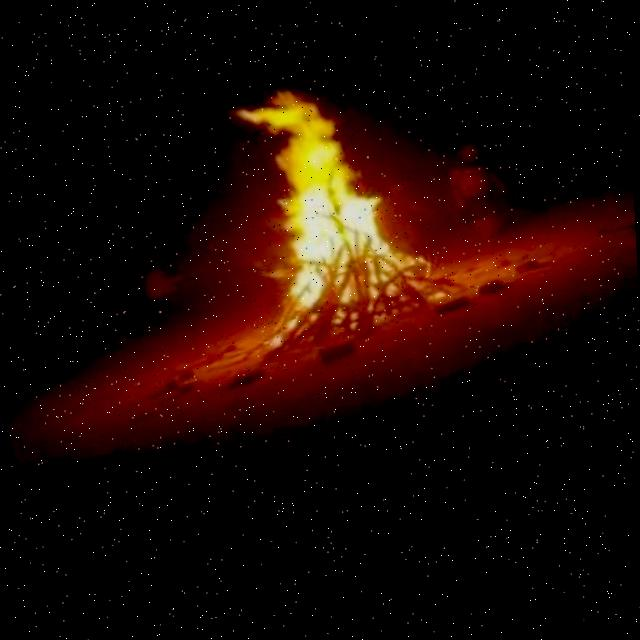fire: (223, 84, 434, 328)
